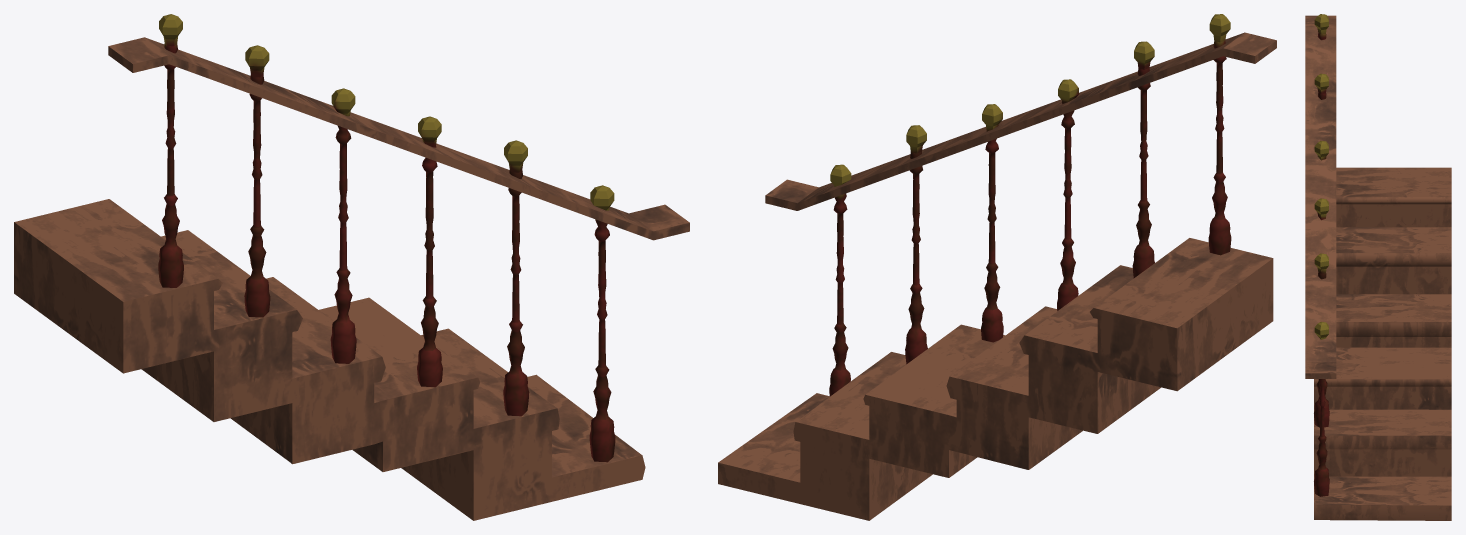
The model's file is EscaleraFinal.fbx.
3 views of the same model, side by side, from view 1: azimuth 30°, elevation 25°; view 2: azimuth 150°, elevation 25°; view 3: azimuth 270°, elevation 25° (orthographic). The views are drawn at different scales.
Parts seen in each view (by area): view 1: lp_escalera, lp_pasamanos, lp_barandal, lp_barandal1, lp_barandal3, lp_barandal5, lp_barandal4, lp_barandal2; view 2: lp_escalera, lp_pasamanos, lp_barandal5, lp_barandal2, lp_barandal1, lp_barandal4, lp_barandal, lp_barandal3; view 3: lp_escalera, lp_pasamanos, lp_barandal, lp_barandal1, lp_barandal4, lp_barandal5, lp_barandal2, lp_barandal3.
Part boxes in pixels (<box>): lp_escalera: <box>14,199,645,520</box>; lp_pasamanos: <box>108,37,689,240</box>; lp_barandal: <box>589,185,615,462</box>; lp_barandal1: <box>503,140,529,416</box>; lp_barandal3: <box>330,88,356,363</box>; lp_barandal5: <box>158,14,183,287</box>; lp_barandal4: <box>244,45,270,317</box>; lp_barandal2: <box>417,116,442,387</box>; lp_escalera: <box>718,238,1273,520</box>; lp_pasamanos: <box>765,32,1276,210</box>; lp_barandal5: <box>1208,14,1231,255</box>; lp_barandal2: <box>981,104,1003,342</box>; lp_barandal1: <box>905,125,927,364</box>; lp_barandal4: <box>1132,41,1154,278</box>; lp_barandal: <box>829,164,851,396</box>; lp_barandal3: <box>1057,79,1078,310</box>; lp_escalera: <box>1314,167,1451,520</box>; lp_pasamanos: <box>1305,15,1336,378</box>; lp_barandal: <box>1314,321,1329,496</box>; lp_barandal1: <box>1314,253,1329,427</box>; lp_barandal4: <box>1314,73,1328,99</box>; lp_barandal5: <box>1314,14,1328,40</box>; lp_barandal2: <box>1314,198,1328,220</box>; lp_barandal3: <box>1314,141,1328,160</box>.
Bounding box in the file's own units: 2.11 × 2.07 × 0.758.
Materials: 2 (2 with a texture image).
